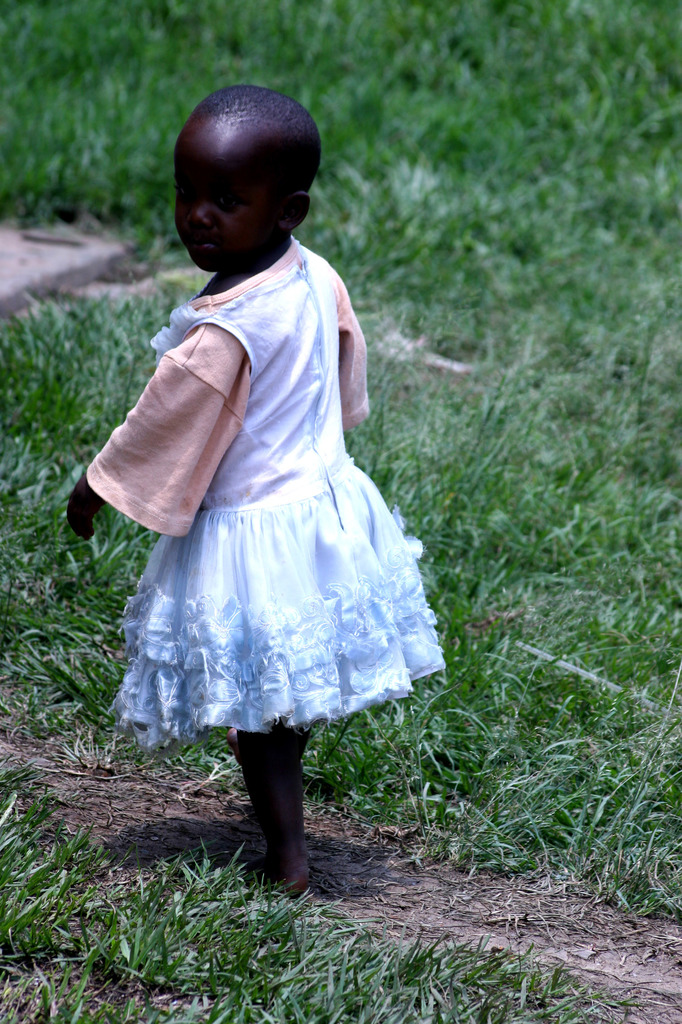Human_hand: (67, 487, 97, 541)
